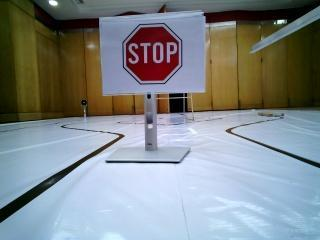stop: (102, 18, 198, 85)
